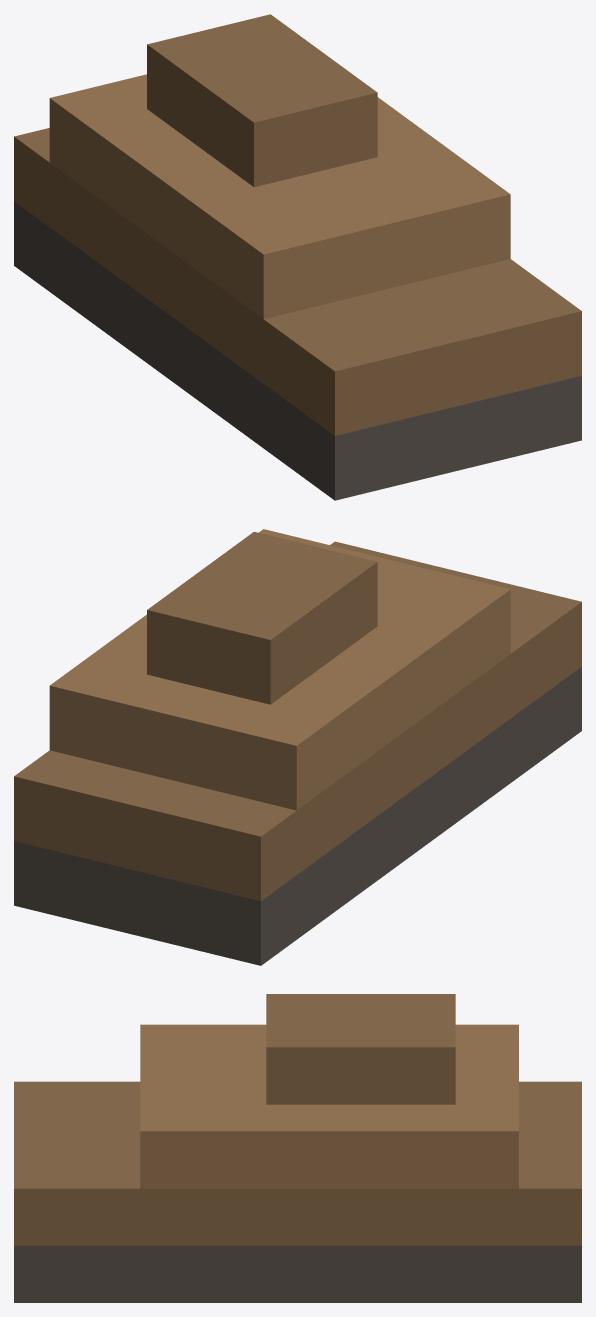
The model's file is foot.glb.
3 renders of one model, top to bottom at view 1: azimuth 30°, elevation 25°; view 2: azimuth 150°, elevation 25°; view 3: azimuth 270°, elevation 25°, orthographic. The views are drawn at different scales.
Parts seen in each view (by area): view 1: foot; view 2: foot; view 3: foot.
Part boxes in pixels (<box>): foot: <box>14,14,581,500</box>; foot: <box>14,529,581,965</box>; foot: <box>14,994,581,1302</box>.
Bounding box in the file's own units: 0.5 × 0.5 × 1.12.
